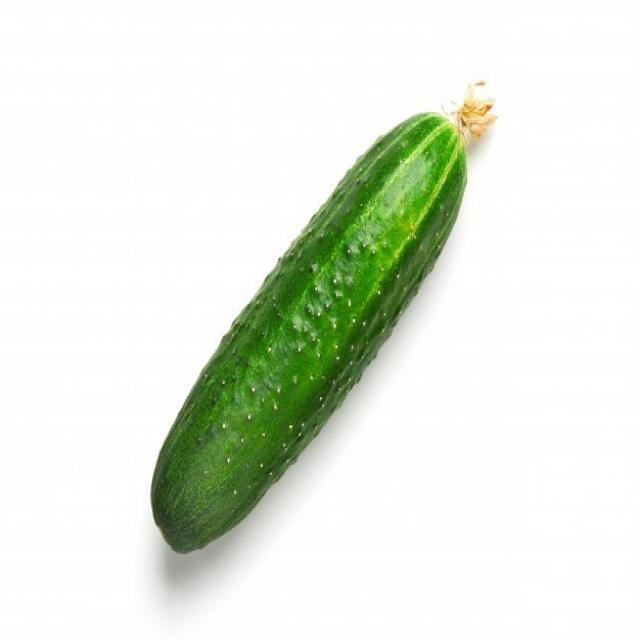cucumber: (145, 108, 470, 560)
